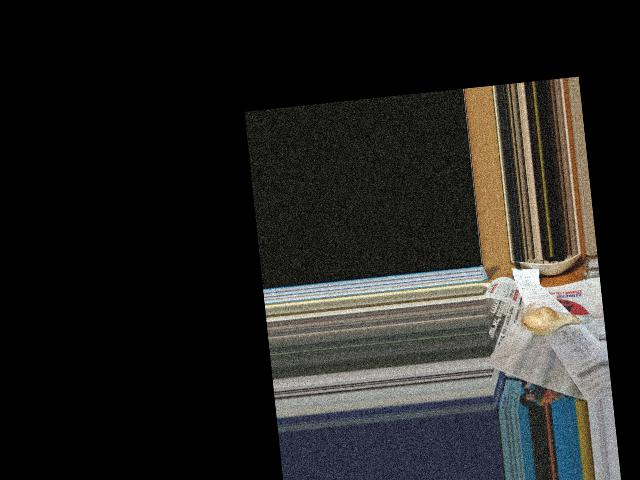onion: (520, 301, 578, 343)
